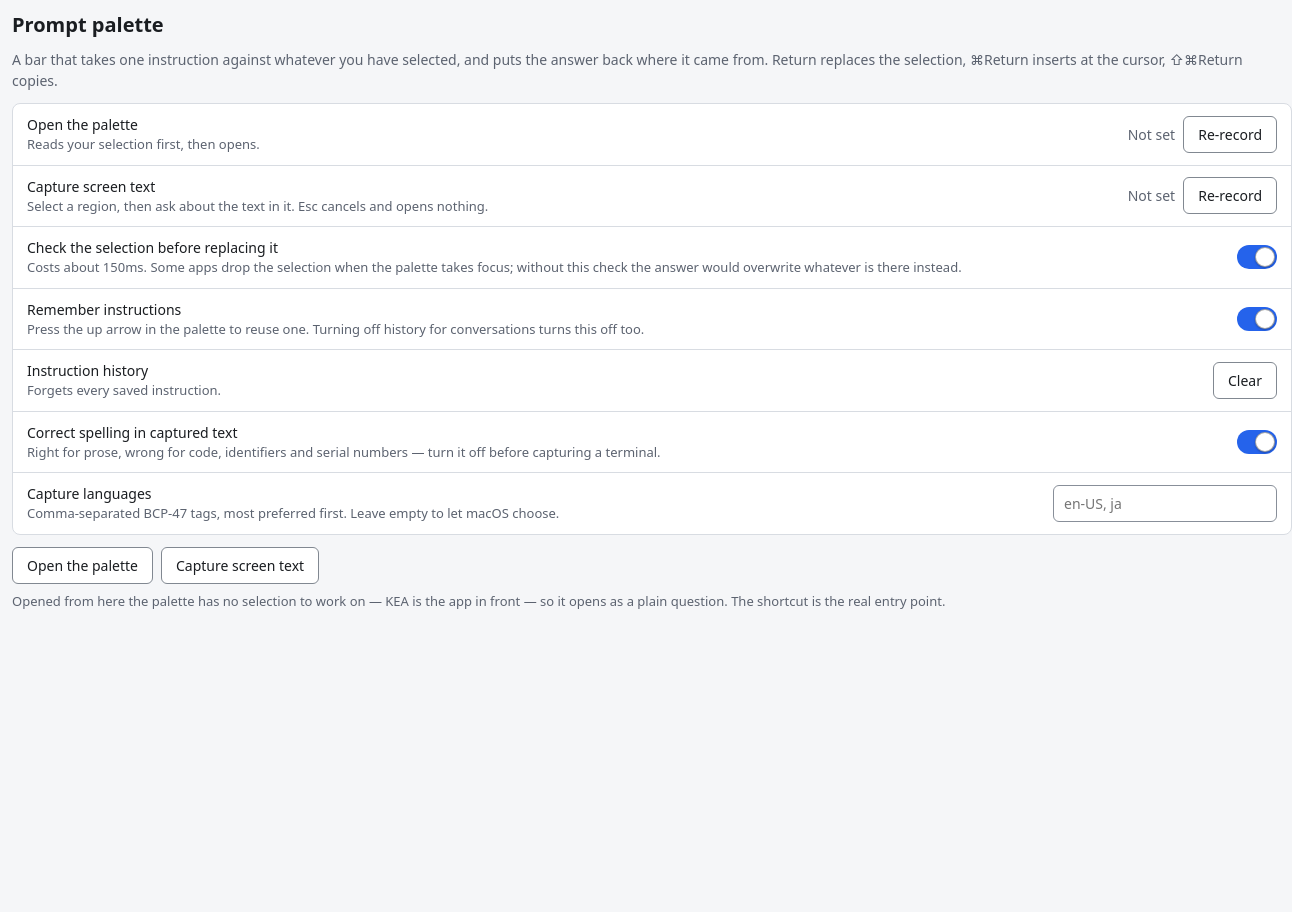
Test case: PaletteSettings › reports a refused write and puts the toggle back
Step 1. Click the switch named "Remember palette instructions" → (1257, 319), box 1237,307 -> 1277,331
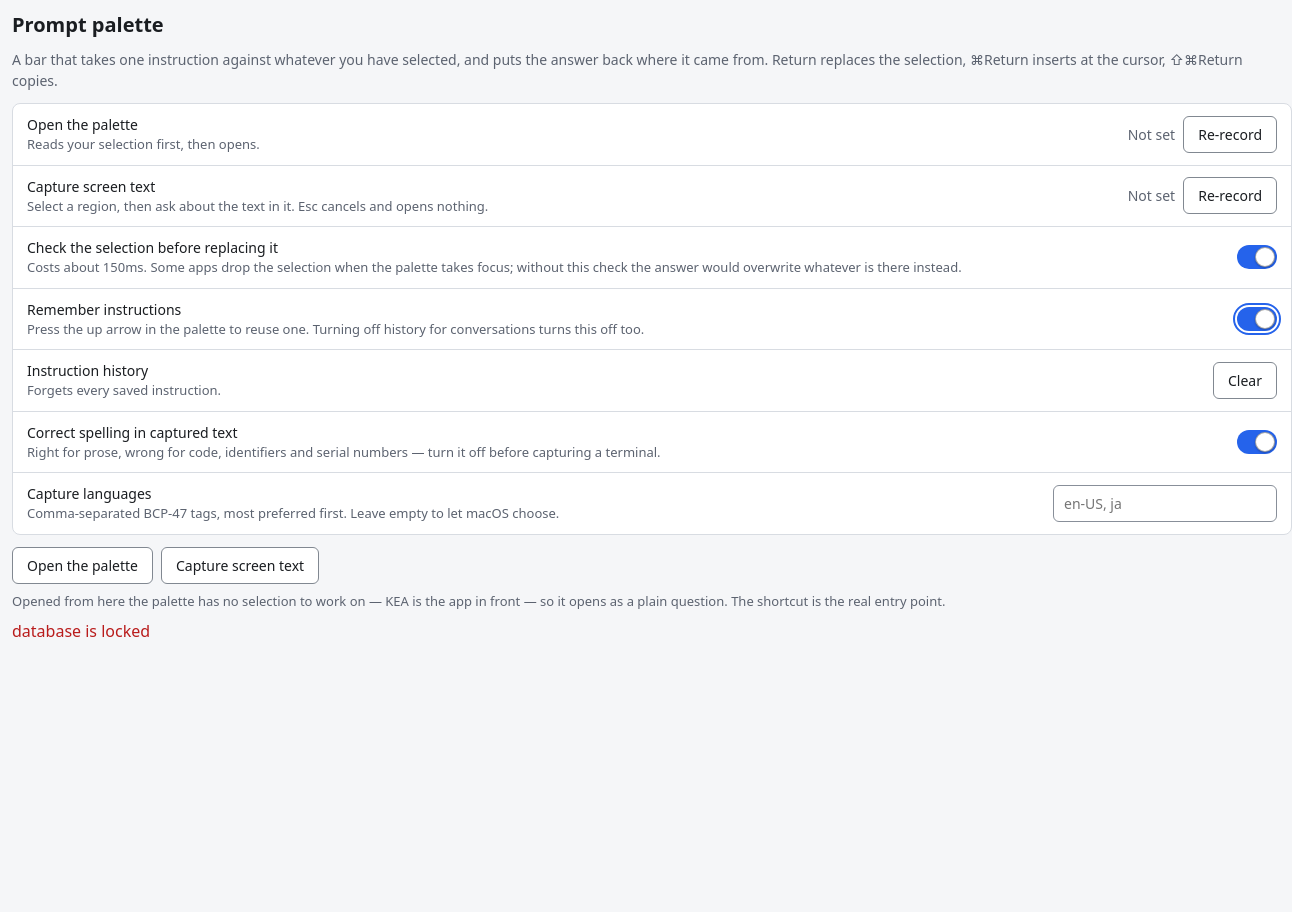
Expected: the message reads "database is locked", 12,620 -> 150,642
